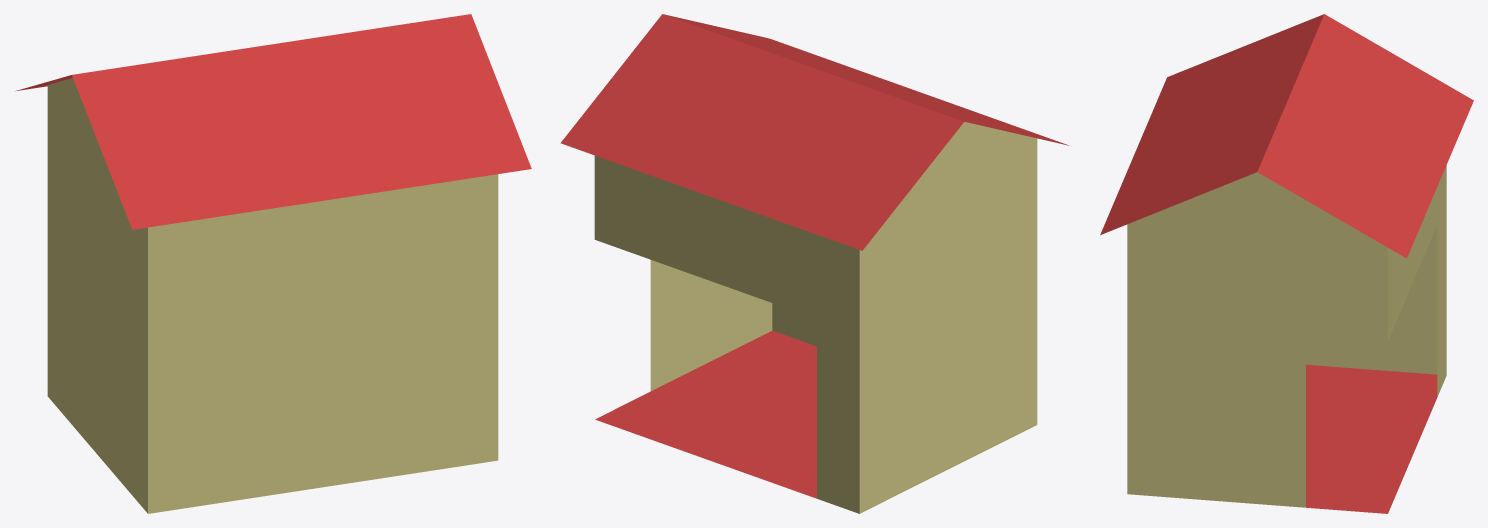
The picture shows the model from 3 angles, left to right: view 1: azimuth 30°, elevation 25°; view 2: azimuth 150°, elevation 25°; view 3: azimuth 270°, elevation 25°; orthographic projection. The views are drawn at different scales.
Size of the model in its own units: 13.73 by 11.97 by 12.08.
